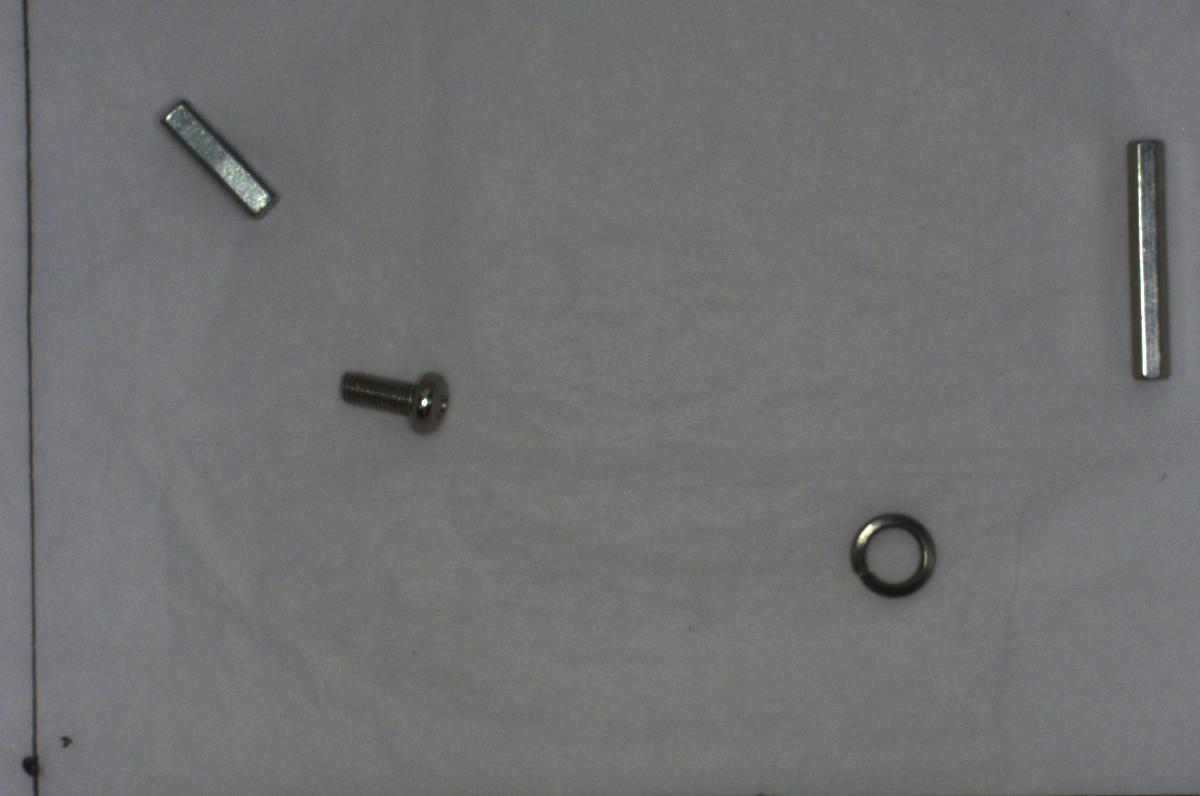Double hexagonal column: (1118, 138, 1177, 388)
Rectangular nut: (160, 95, 277, 223)
Round head screw: (331, 359, 460, 445)
Spring washer: (842, 512, 942, 605)
